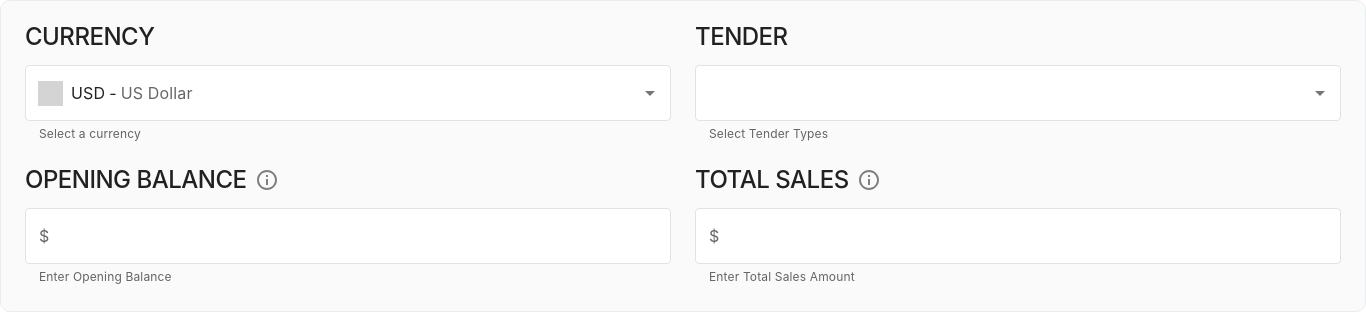
Test: ConfigSection Component › displays the correct tooltips on hover
The width and height of the screenshot is (1366, 329).
Step 1. Hover over the icon named "The starting cash float for the register, to be used during the next day’s operations." → (266,180), box [254,168,278,192]
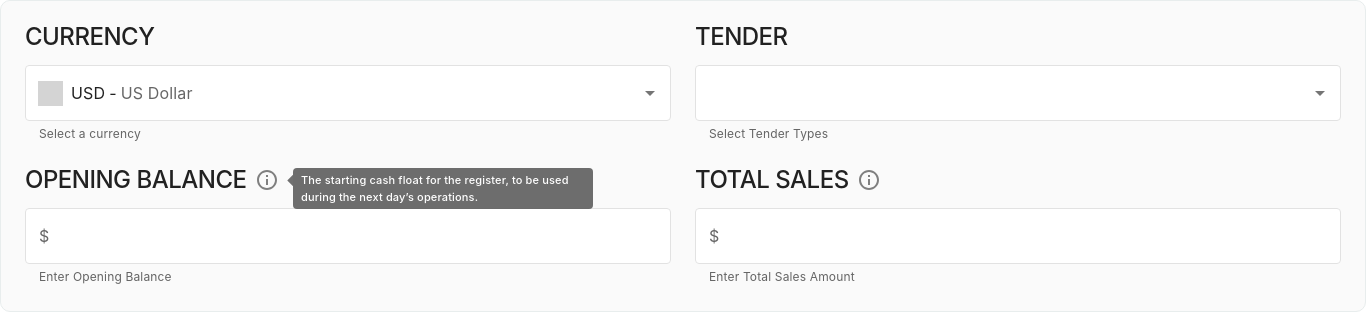
Check: the text "The starting cash float for the register, to be used during the next day’s operations." is shown, box [301,173,569,204]
Step 2. Move the pointer off the icon named "The starting cash float for the register, to be used during the next day’s operations.", box [254,168,278,192]
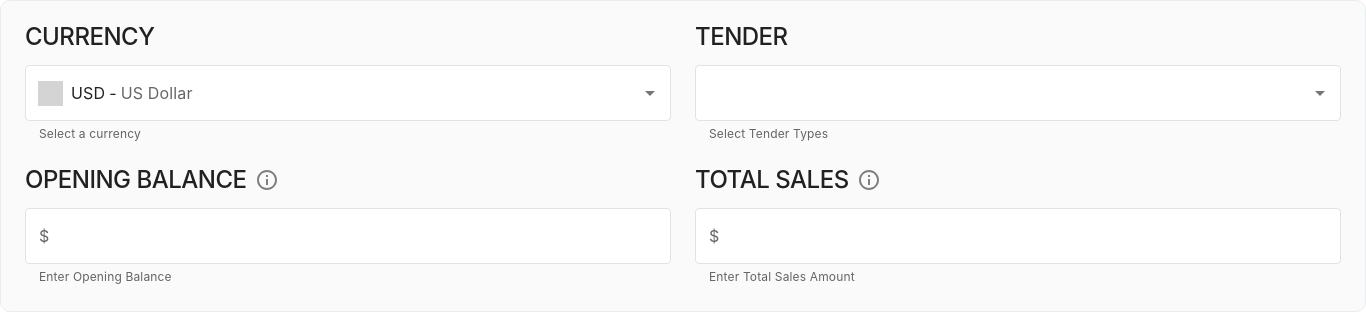
Check: the text "The starting cash float for the register, to be used during the next day’s operations." is gone
Step 3. Hover over the icon named "The expected total cash sales recorded by the POS system for the day." → (869,180), box [857,168,881,192]
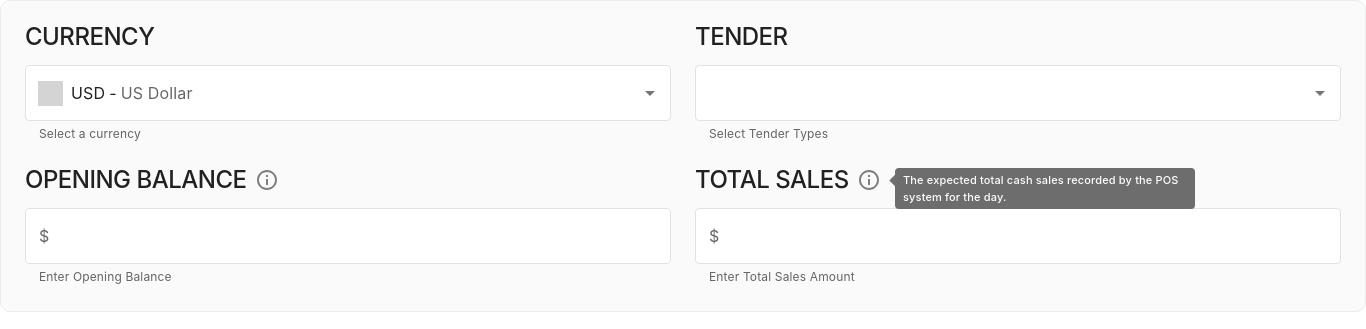
Check: the text "The expected total cash sales recorded by the POS system for the day." is shown, box [895,168,1195,209]
Step 4. Move the pointer off the icon named "The expected total cash sales recorded by the POS system for the day.", box [857,168,881,192]
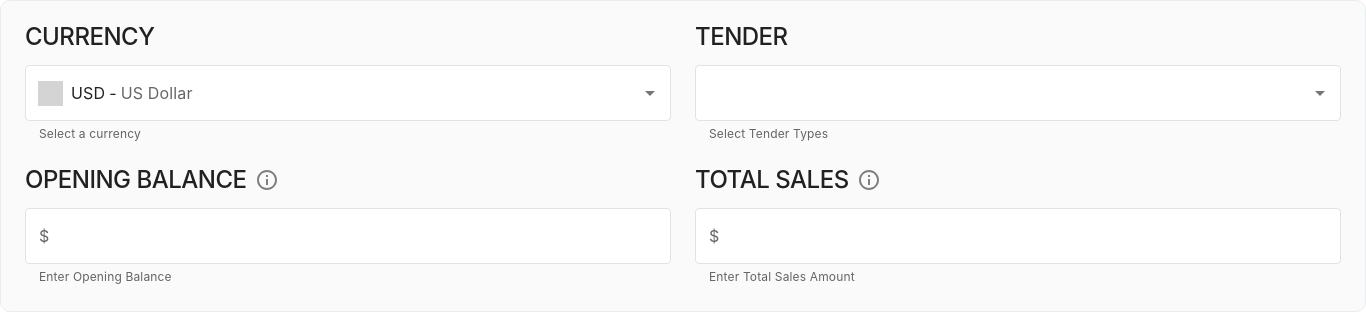
Check: the text "The expected total cash sales recorded by the POS system for the day." is gone
